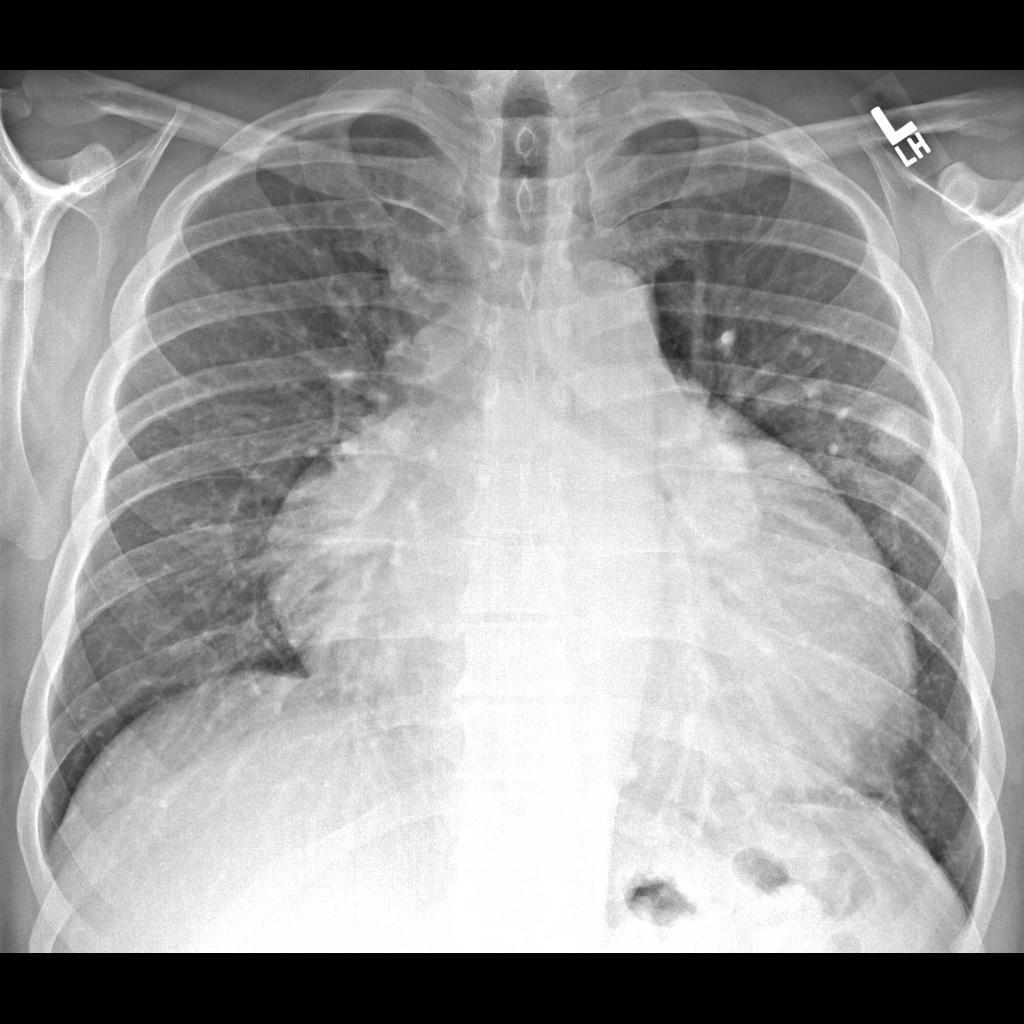Nodule: (860, 392, 936, 468)
